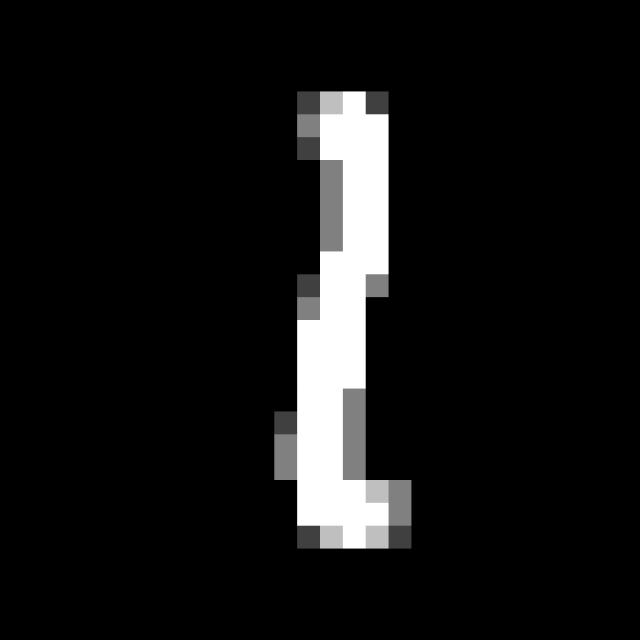one -1-: (256, 73, 443, 588)
